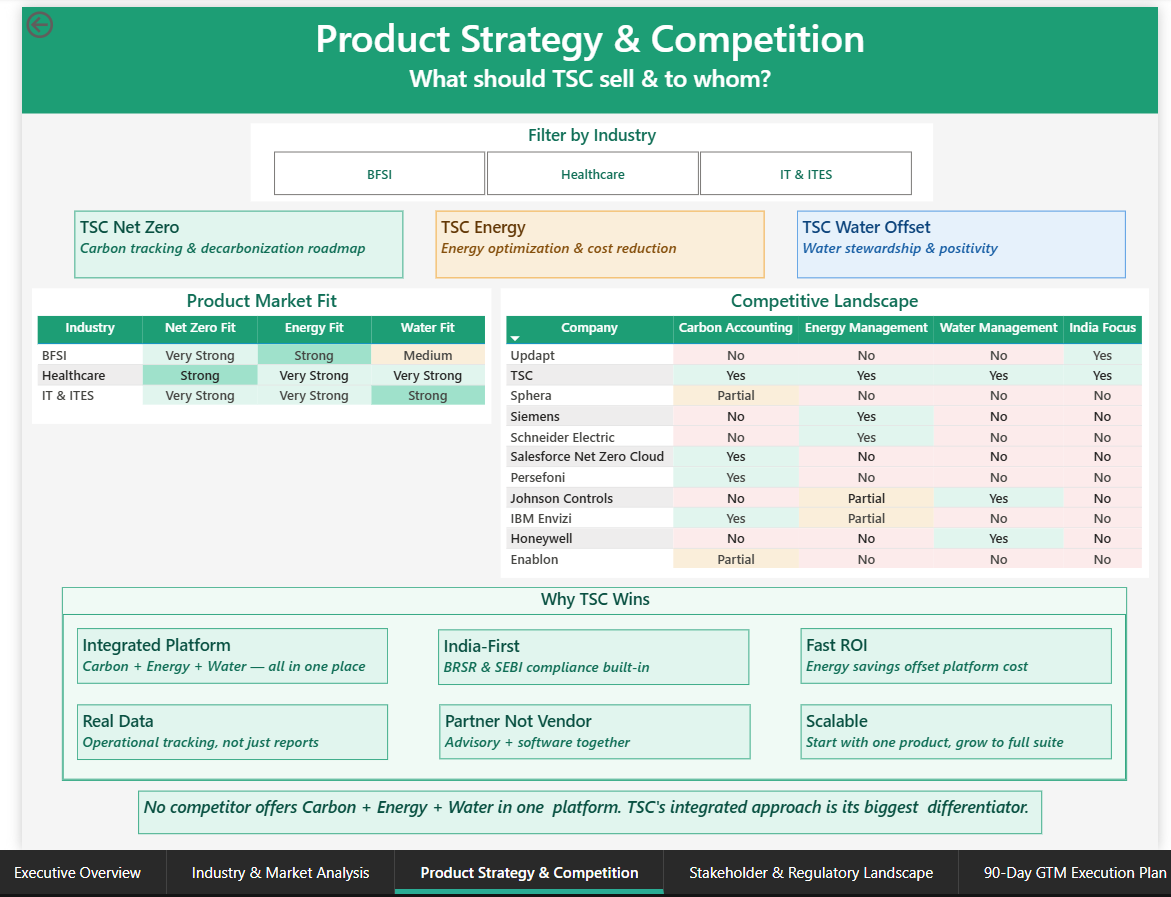

Layout of this report page (visuals, bound fields, positions):
{"tool":"powerbi","page":{"name":"Product Strategy & Competition","canvas":[1280,950],"ordinal":2},"visuals":[{"type":"textbox","box":[0,0,1280.2,120],"z":0},{"type":"slicer","title":"Filter by Industry","fields":{"Values":["2_companies_and_products_fixed.Industry"]},"box":[257.8,131.2,769,88],"z":1000},{"type":"textbox","box":[58.8,229.6,370,76],"z":2000},{"type":"textbox","box":[465.8,229.6,370.2,76.2],"z":3000},{"type":"textbox","box":[873.1,229.6,370,76.2],"z":4000},{"type":"tableEx","title":"Product Market Fit","fields":{"Values":["2_companies_and_products_fixed.Industry","2_companies_and_products_fixed.Net Zero Fit","2_companies_and_products_fixed.Energy Fit","2_companies_and_products_fixed.Water Fit"]},"box":[11.2,316.2,517.5,152.5],"z":5000},{"type":"tableEx","title":"Competitive Landscape","fields":{"Values":["4_competition_v2.Company","4_competition_v2.Carbon Accounting","4_competition_v2.Energy Management","4_competition_v2.Water Management","4_competition_v2.India Focus"]},"box":[538.8,316.2,730,326.2],"z":6000},{"type":"textbox","box":[130.8,883.5,1018.5,48.7],"z":7000},{"type":"shape","title":"Why TSC Wins","box":[44.5,653.9,1200,218.4],"z":8000},{"type":"textbox","box":[62.1,700.7,350,62.6],"z":9000},{"type":"textbox","box":[469.4,701,350.6,62.6],"z":10000},{"type":"textbox","box":[877.1,699.6,350.6,62.6],"z":11000},{"type":"textbox","box":[61.8,785.8,350.6,62.6],"z":12000},{"type":"textbox","box":[470.8,785.8,350.6,61.2],"z":13000},{"type":"textbox","box":[877.1,785.8,350.6,61.2],"z":14000},{"type":"actionButton","box":[0,0,100,40],"z":15000}]}

Visuals, with their boxes on the page's 1280x950 design canvas (x1, y1, x2, y2). These are canvas units, not pixel positions in the 1171x897 screenshot, which may show the page scaled, cropped or inside an application window:
textbox: bbox(0, 0, 1280, 120)
"Filter by Industry" slicer: bbox(258, 131, 1027, 219)
textbox: bbox(59, 230, 429, 306)
textbox: bbox(466, 230, 836, 306)
textbox: bbox(873, 230, 1243, 306)
"Product Market Fit" tableEx: bbox(11, 316, 529, 469)
"Competitive Landscape" tableEx: bbox(539, 316, 1269, 642)
textbox: bbox(131, 884, 1149, 932)
"Why TSC Wins" shape: bbox(44, 654, 1244, 872)
textbox: bbox(62, 701, 412, 763)
textbox: bbox(469, 701, 820, 764)
textbox: bbox(877, 700, 1228, 762)
textbox: bbox(62, 786, 412, 848)
textbox: bbox(471, 786, 821, 847)
textbox: bbox(877, 786, 1228, 847)
actionButton: bbox(0, 0, 100, 40)
